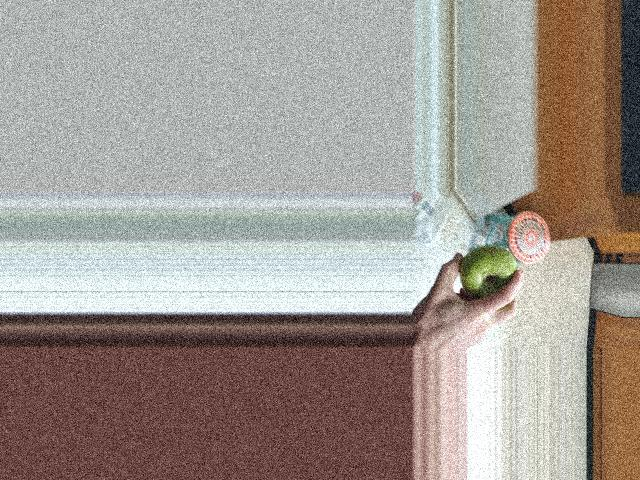apple: (456, 244, 520, 305)
